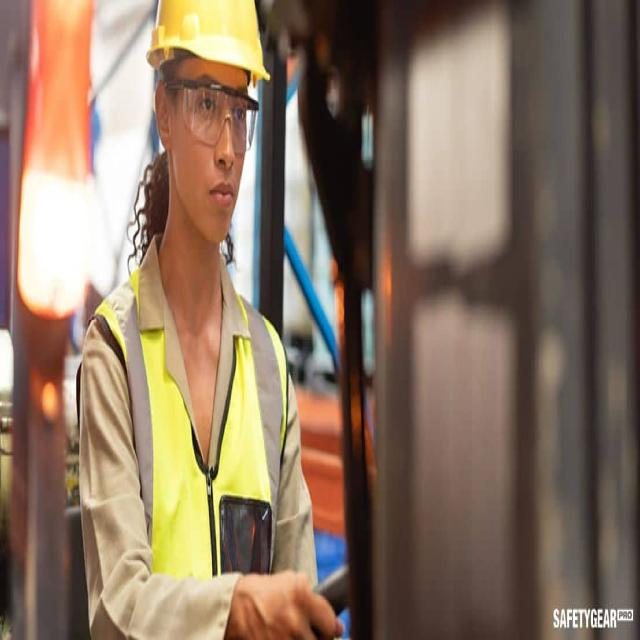goggles: (156, 72, 258, 159)
helmet: (142, 0, 268, 66)
vest: (94, 271, 286, 574)
